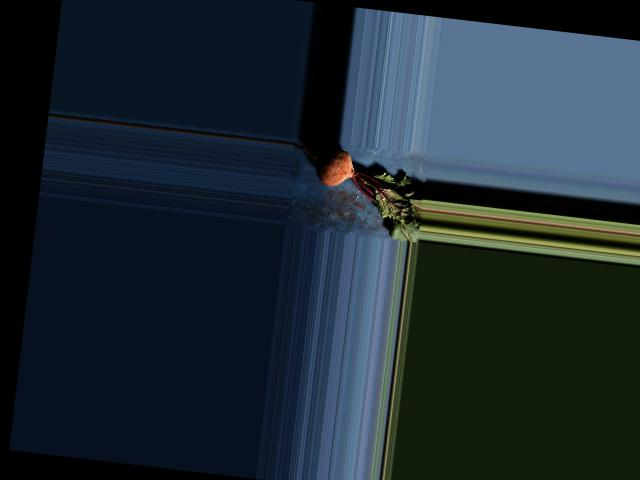beet: (284, 142, 429, 243)
